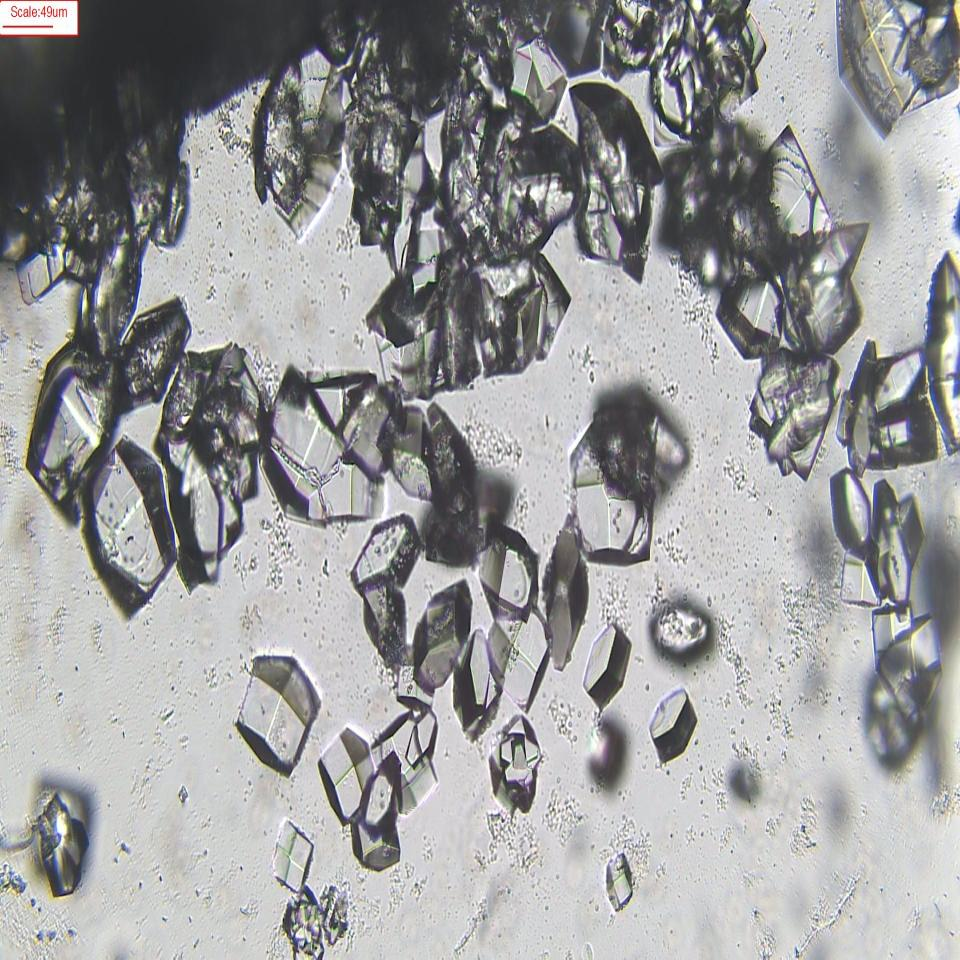crystal: (81, 439, 179, 604), (566, 425, 655, 561), (233, 644, 318, 772), (588, 384, 682, 481), (541, 512, 589, 673), (412, 576, 475, 690), (32, 795, 94, 897), (346, 510, 423, 589), (451, 624, 501, 740), (481, 528, 538, 626), (318, 724, 374, 816), (582, 624, 634, 710), (830, 466, 877, 559), (489, 727, 543, 801), (649, 601, 716, 658), (648, 688, 700, 755), (271, 821, 317, 890), (279, 894, 321, 960), (321, 882, 354, 943), (603, 852, 635, 910)
not_crystal: (385, 58, 569, 245), (152, 340, 257, 568), (369, 268, 577, 382), (261, 374, 425, 504), (44, 258, 171, 409), (256, 55, 342, 228), (667, 124, 767, 267), (841, 350, 931, 453)
